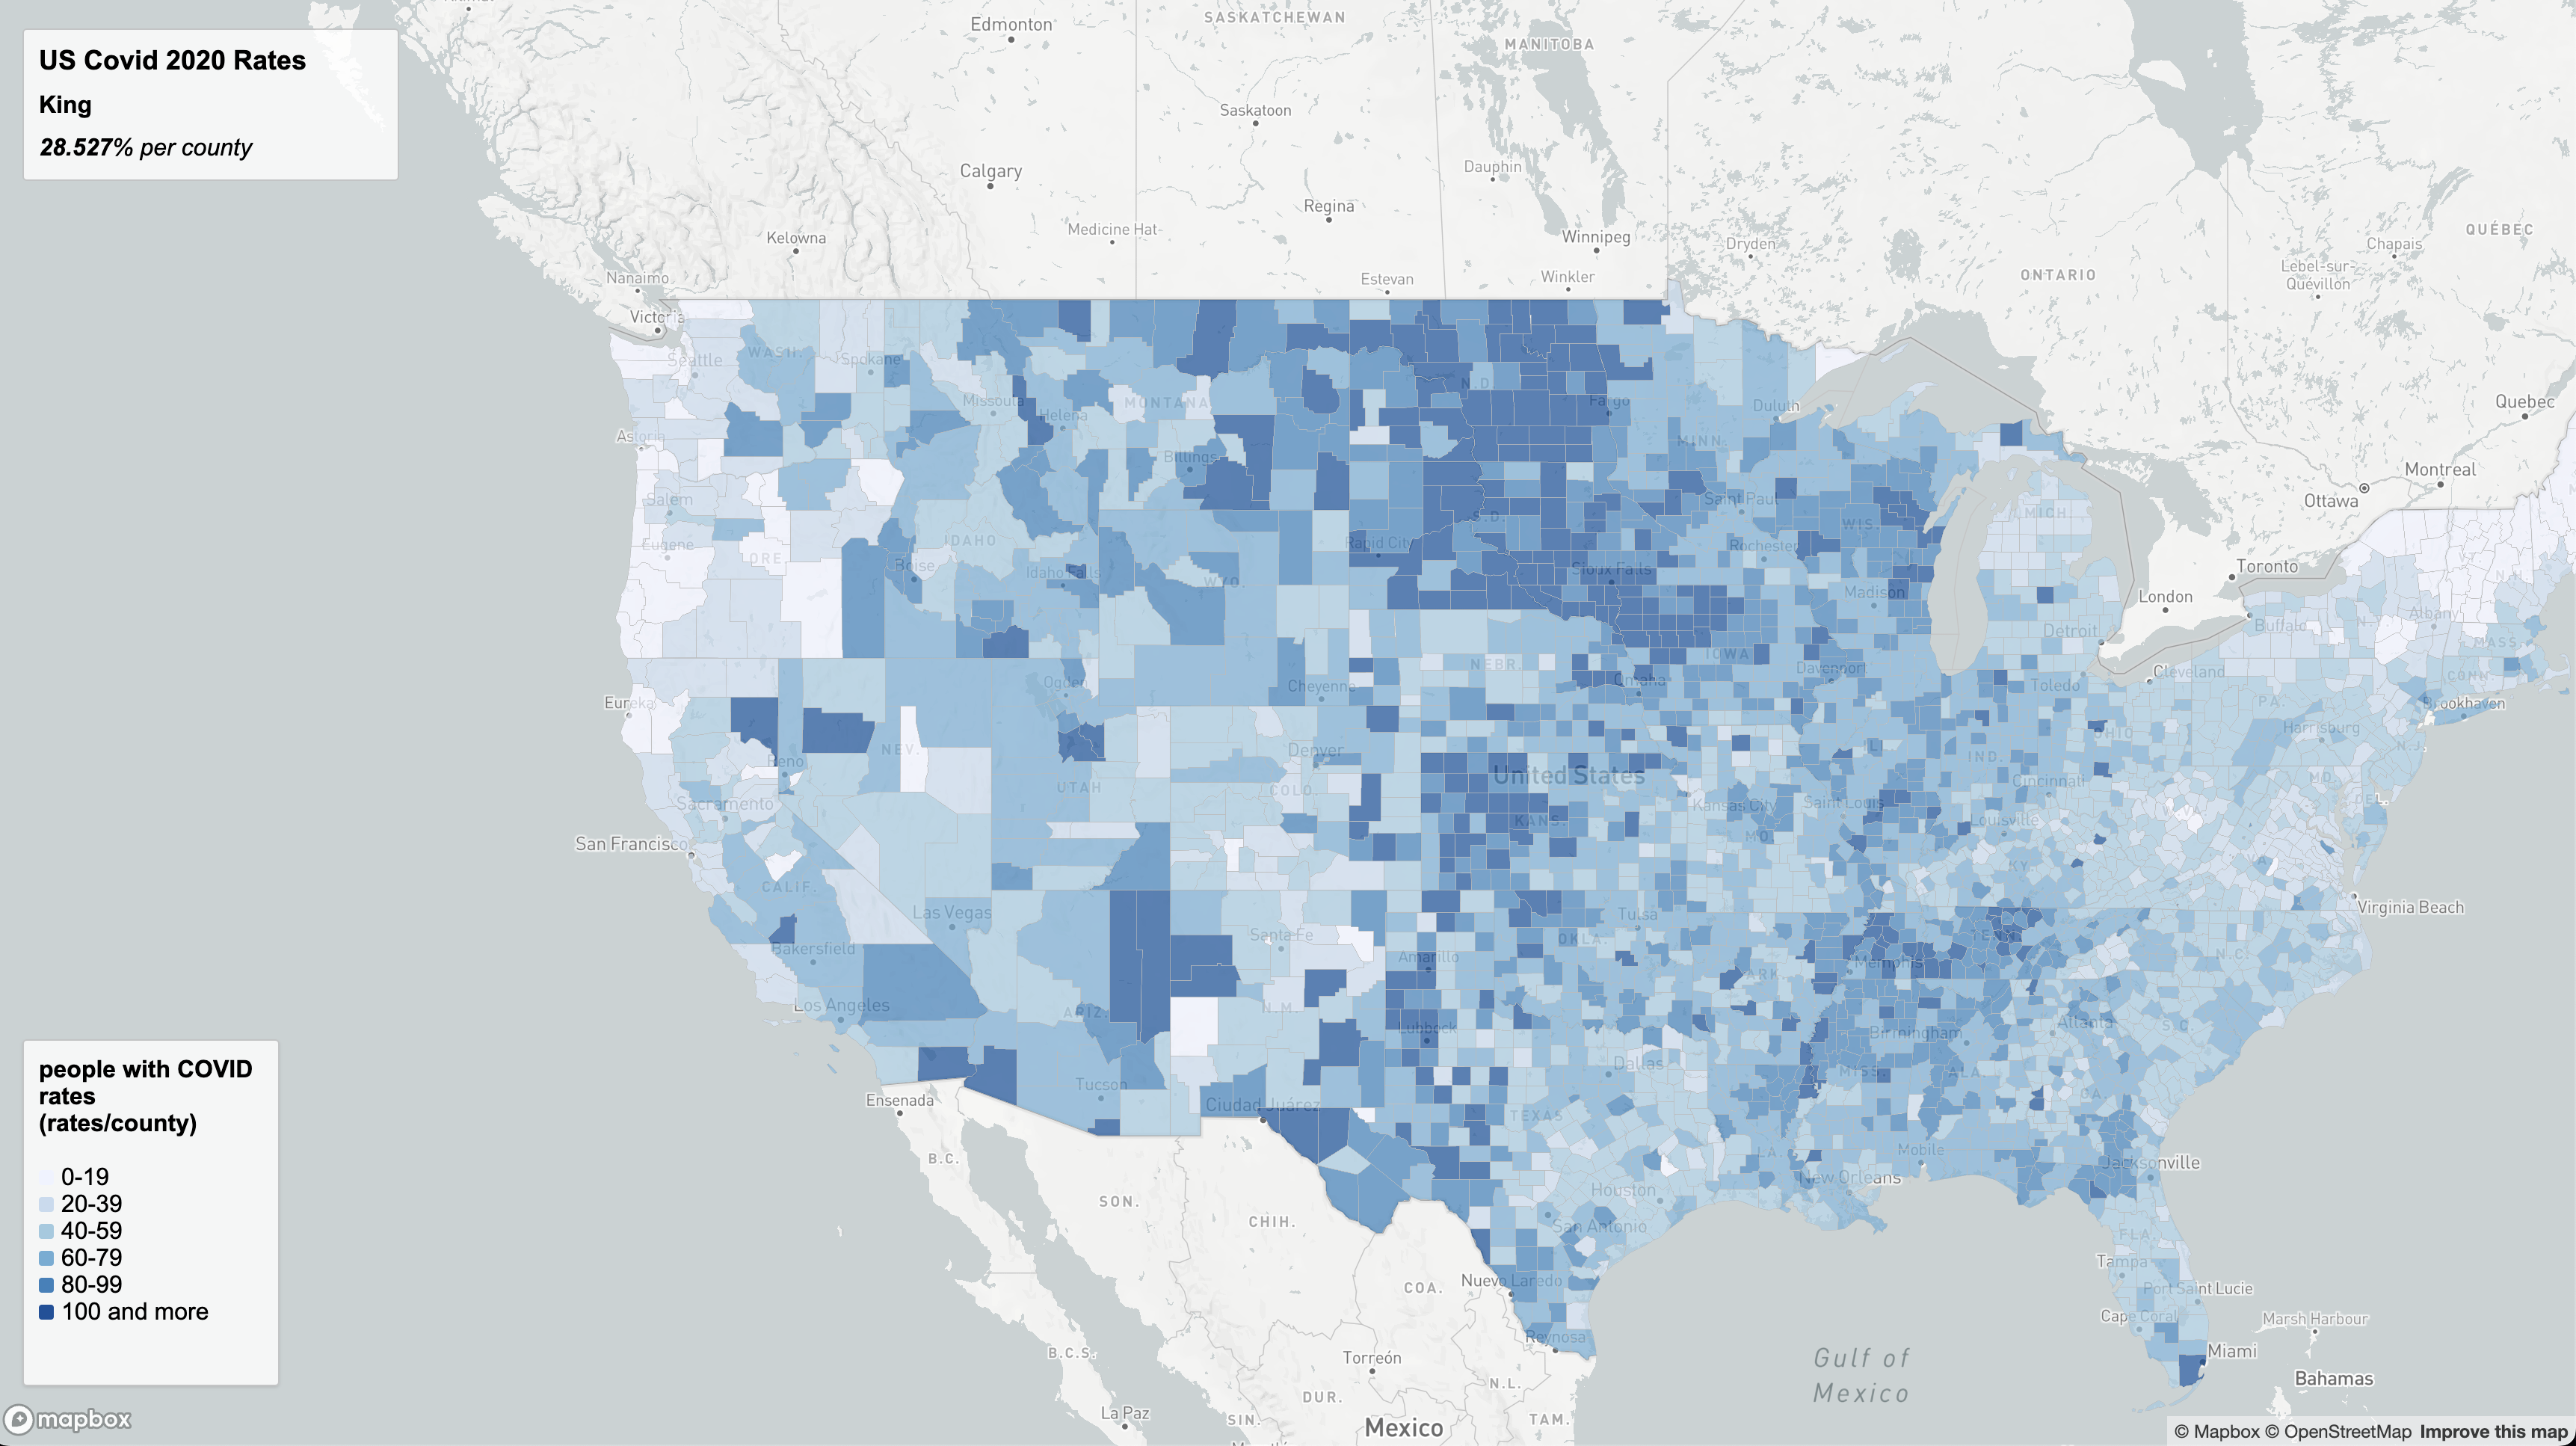

The page's visual inventory and layout, read from the dashboard file:
{"tool":"tableau","page":{"name":"Dashboard 1","canvas":[1000,800],"ordinal":0},"visuals":[{"type":"worksheet","title":"Sheet 2","mark":"Automatic","cols":["Number of Records per us-covid-2020-counts.geojson"],"box":[8,8,492,784]},{"type":"worksheet","title":"Sheet 1","mark":"Automatic","box":[500,8,492,784]}]}

Visuals, with their boxes on the page's 1000x800 design canvas (x1, y1, x2, y2). These are canvas units, not pixel positions in the 2576x1446 screenshot, which may show the page scaled, cropped or inside an application window:
"Sheet 2" worksheet: [x1=8, y1=8, x2=500, y2=792]
"Sheet 1" worksheet: [x1=500, y1=8, x2=992, y2=792]
